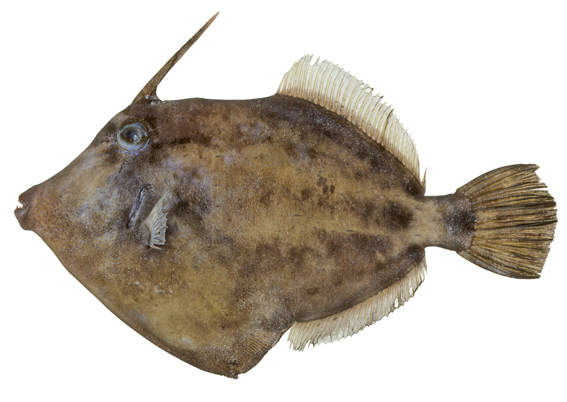fish: (13, 11, 558, 378)
